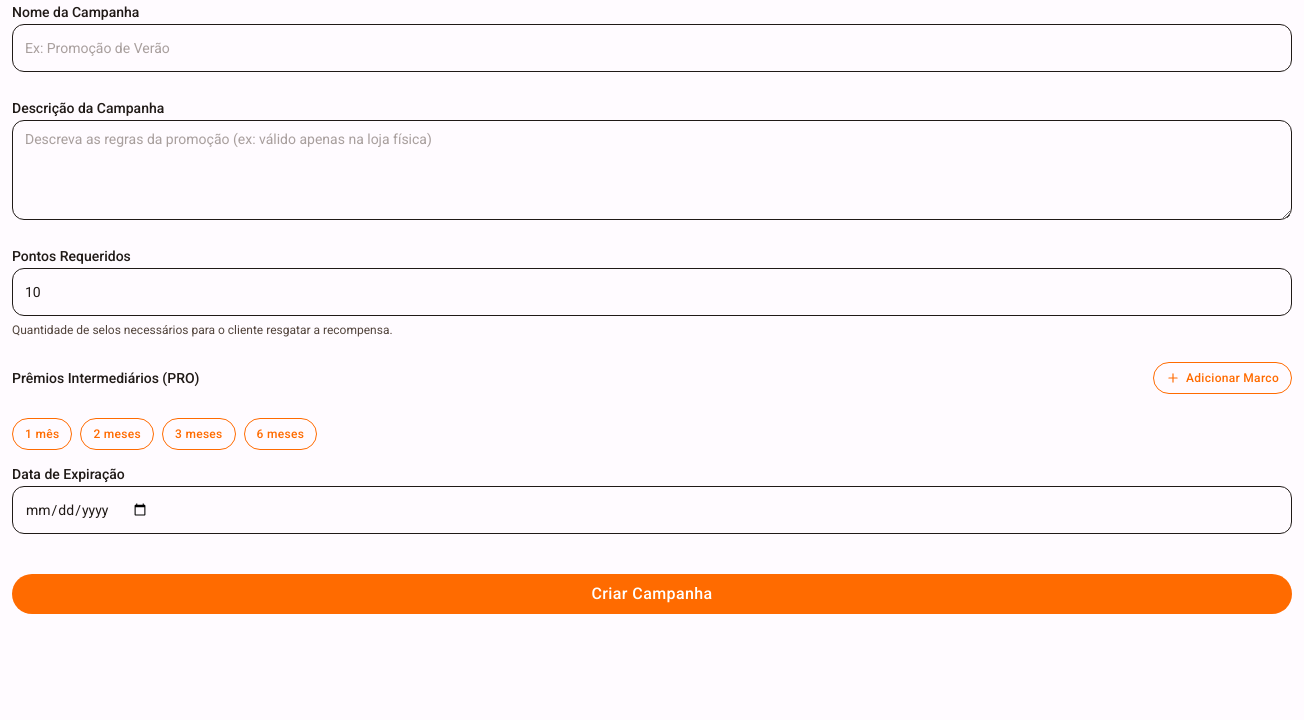
Test: CreateCampaignForm › deve preencher data quando clica atalho de 1 mês
Click the button "1 mês": (42, 434) [12, 418, 72, 450]
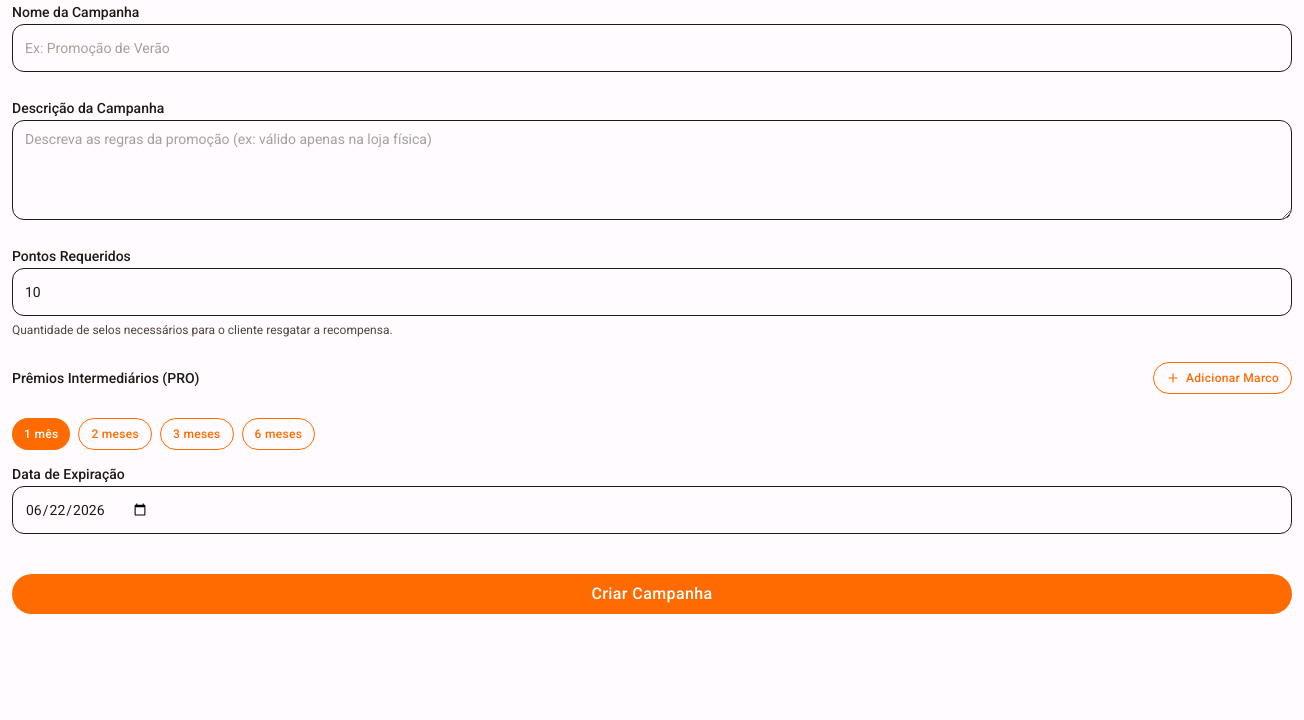
Result: the date field labelled "Data de Expiração" is not empty at [12, 486, 1292, 534]
